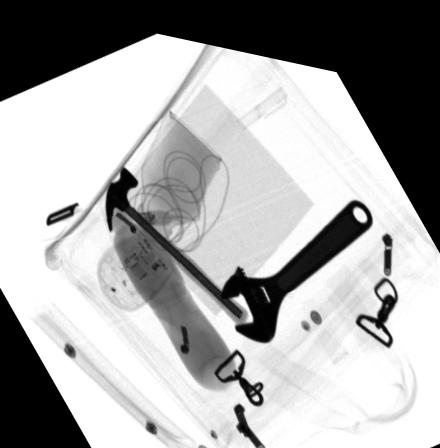Hammer: (103, 159, 246, 315)
Wrench: (217, 183, 371, 331)
